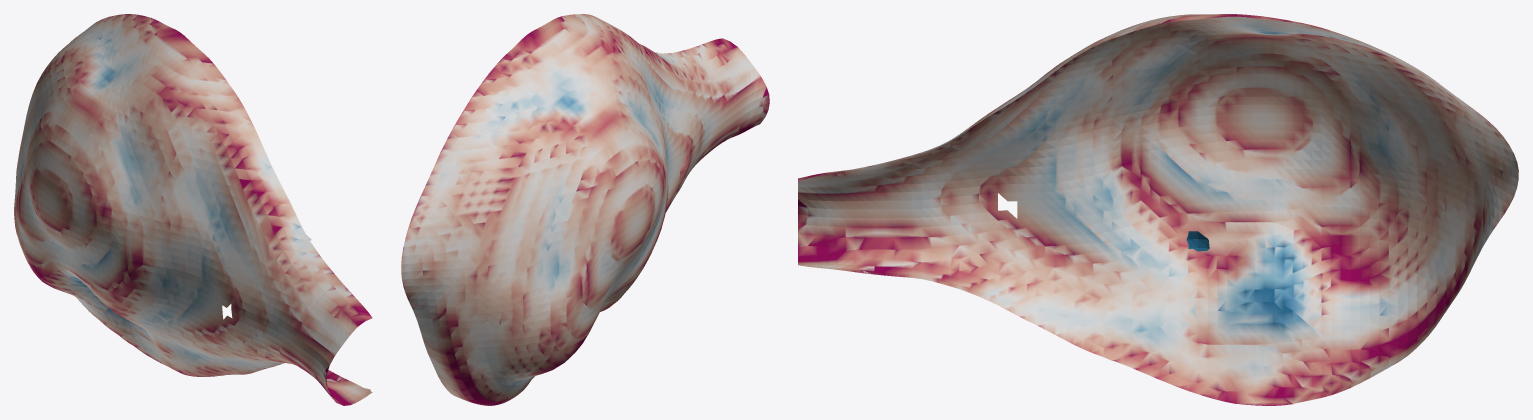
File: crop1028_curvature.glb
The picture shows the model from 3 angles, left to right: view 1: azimuth 30°, elevation 25°; view 2: azimuth 150°, elevation 25°; view 3: azimuth 270°, elevation 25°; orthographic projection. The views are drawn at different scales.
Parts seen in each view (by area): view 1: world; view 2: world; view 3: world.
Boxes of the visible parts, x1=… form: world: x1=14, y1=14, x2=372, y2=405; world: x1=401, y1=14, x2=769, y2=405; world: x1=798, y1=14, x2=1518, y2=405.
Bounding box in the file's own units: 268 × 722 × 1211.
